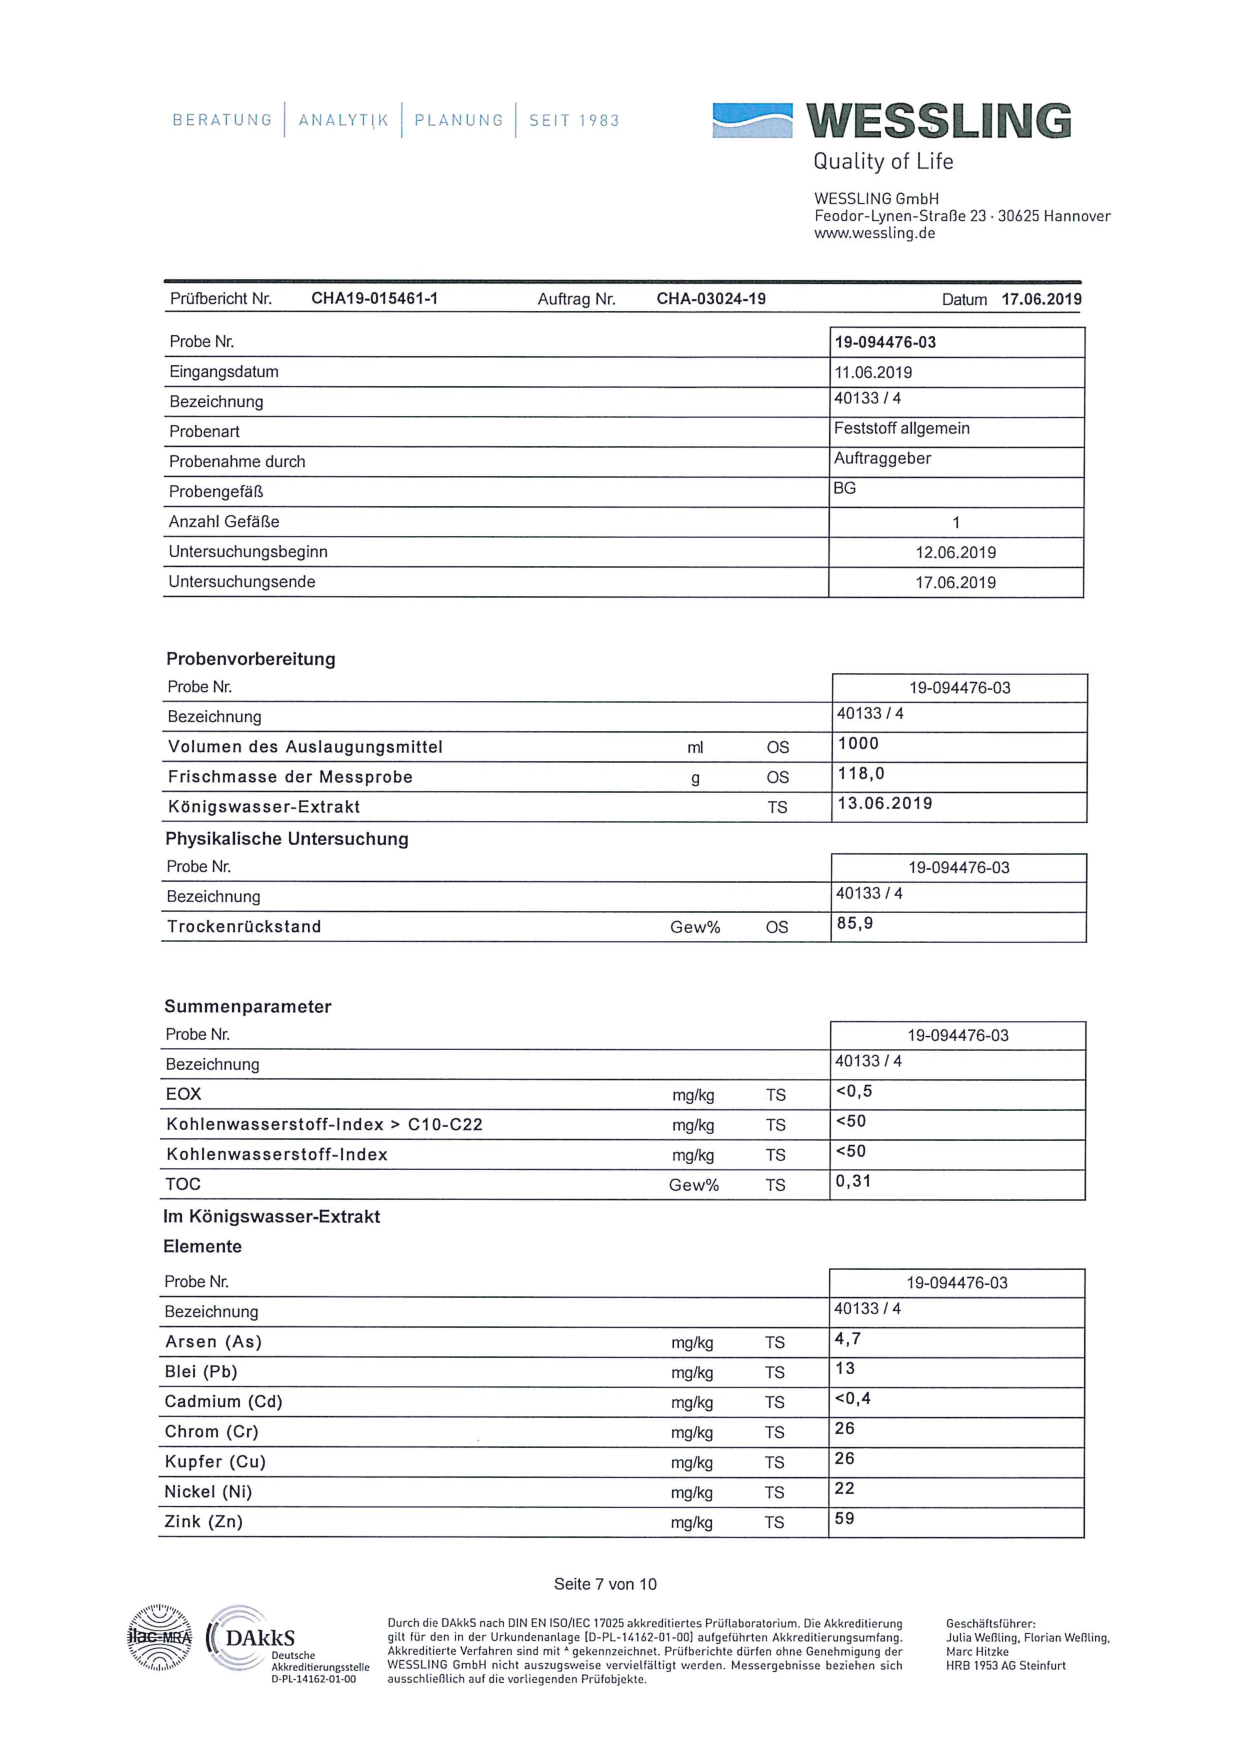table: (148, 1261, 1094, 1547), (158, 321, 1094, 607), (153, 1017, 1099, 1206), (160, 666, 1094, 825), (148, 849, 1094, 950)
